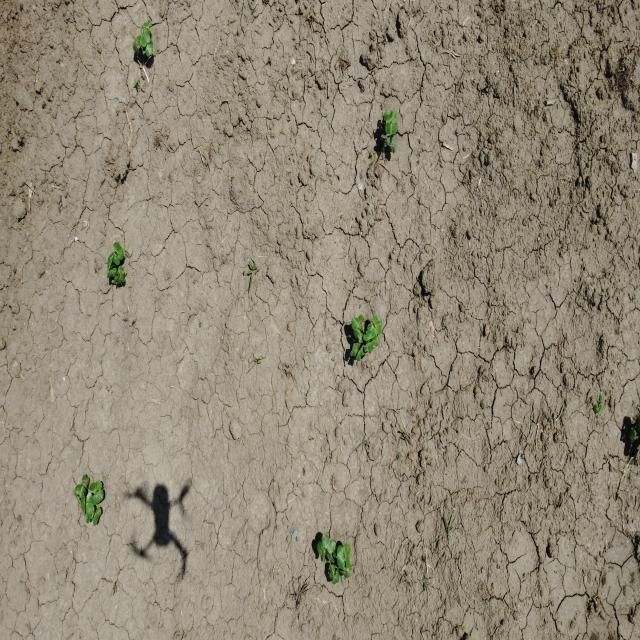seedling_s3: (322, 534, 333, 554), (351, 314, 364, 330), (113, 242, 124, 260), (373, 313, 382, 335), (337, 545, 345, 569), (92, 489, 103, 506), (85, 493, 93, 516), (364, 340, 377, 353), (317, 541, 325, 562), (385, 122, 397, 135), (353, 329, 364, 343), (93, 508, 101, 526), (363, 329, 375, 341), (109, 252, 120, 265), (89, 480, 102, 491), (75, 484, 86, 497), (384, 110, 397, 121), (86, 506, 94, 523), (141, 32, 150, 47), (351, 343, 361, 356), (345, 543, 350, 568), (107, 267, 117, 279), (146, 40, 153, 57), (118, 266, 125, 282), (356, 347, 364, 361), (80, 492, 85, 513), (332, 569, 339, 584), (133, 38, 139, 55), (330, 541, 336, 558), (140, 27, 151, 36), (82, 474, 90, 486), (327, 551, 335, 563), (329, 564, 335, 580), (340, 570, 351, 578), (107, 256, 112, 273), (143, 19, 151, 27), (137, 36, 142, 48), (114, 276, 121, 284), (390, 144, 395, 154), (390, 137, 396, 145)
